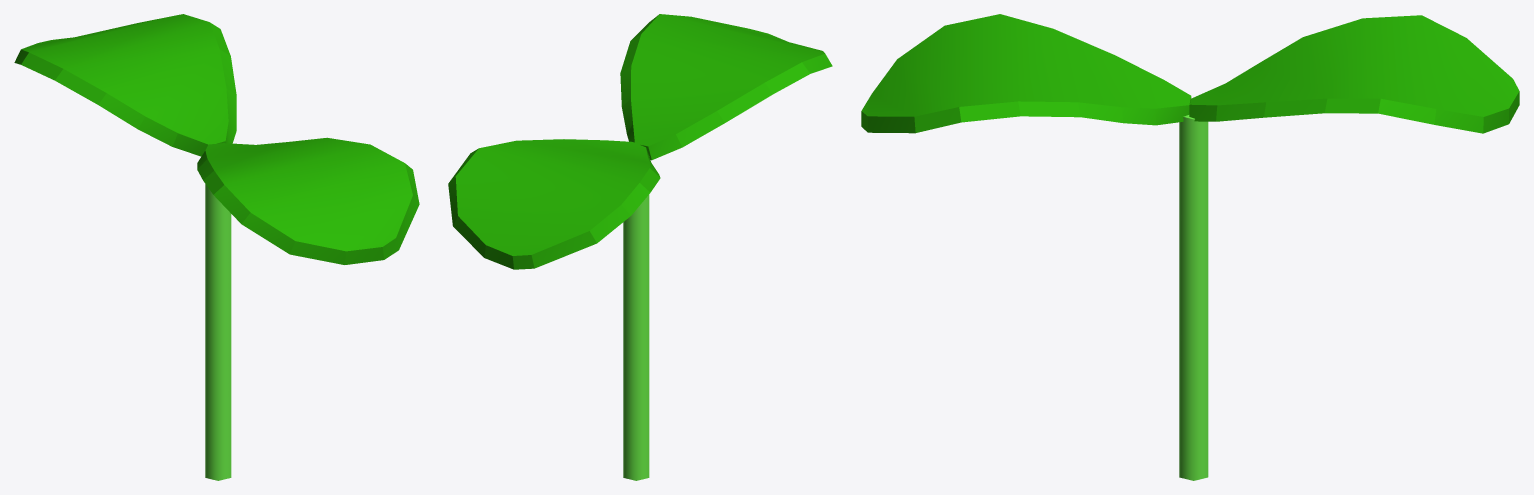
Rendered from 小黃瓜成長1.FBX.
The picture shows the model from 3 angles, left to right: view 1: azimuth 30°, elevation 25°; view 2: azimuth 150°, elevation 25°; view 3: azimuth 270°, elevation 25°; orthographic projection. The views are drawn at different scales.
Visible parts, largest first — view 1: Cylinder001; view 2: Cylinder001; view 3: Cylinder001.
Boxes of the visible parts, x1,y1,x2,y2 form: Cylinder001: (14,14,419,480); Cylinder001: (448,14,832,480); Cylinder001: (861,14,1519,480).
Bounding box in the file's own units: 28.8 × 54.96 × 78.79.
Materials: 1 (1 with a texture image).
